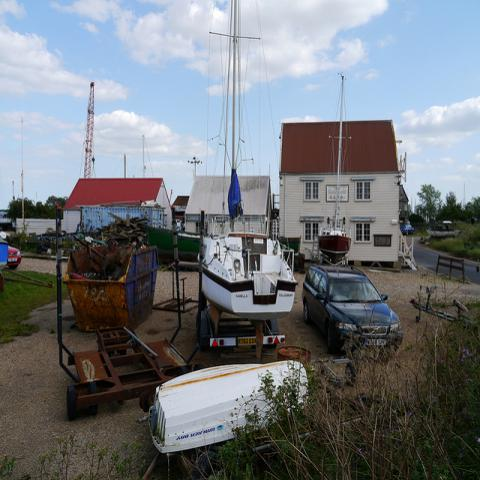car: (300, 266, 406, 360), (0, 236, 22, 270), (400, 224, 415, 235)
